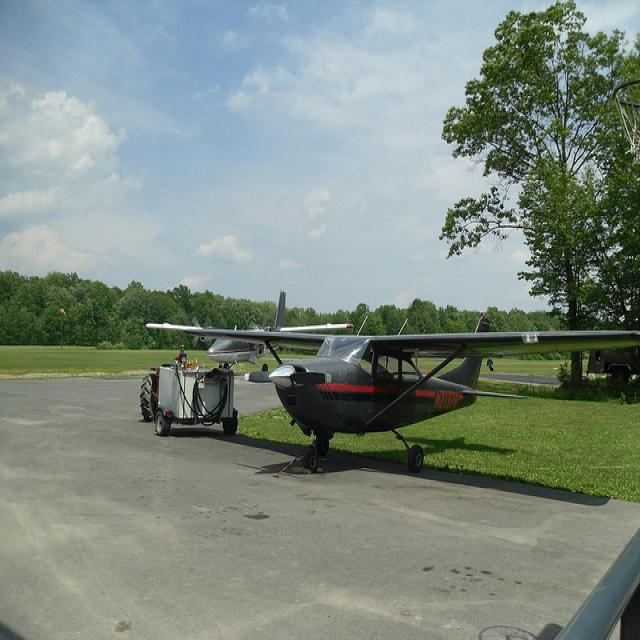airplane: (192, 326, 640, 475), (207, 291, 353, 368)
person: (173, 353, 183, 366)
